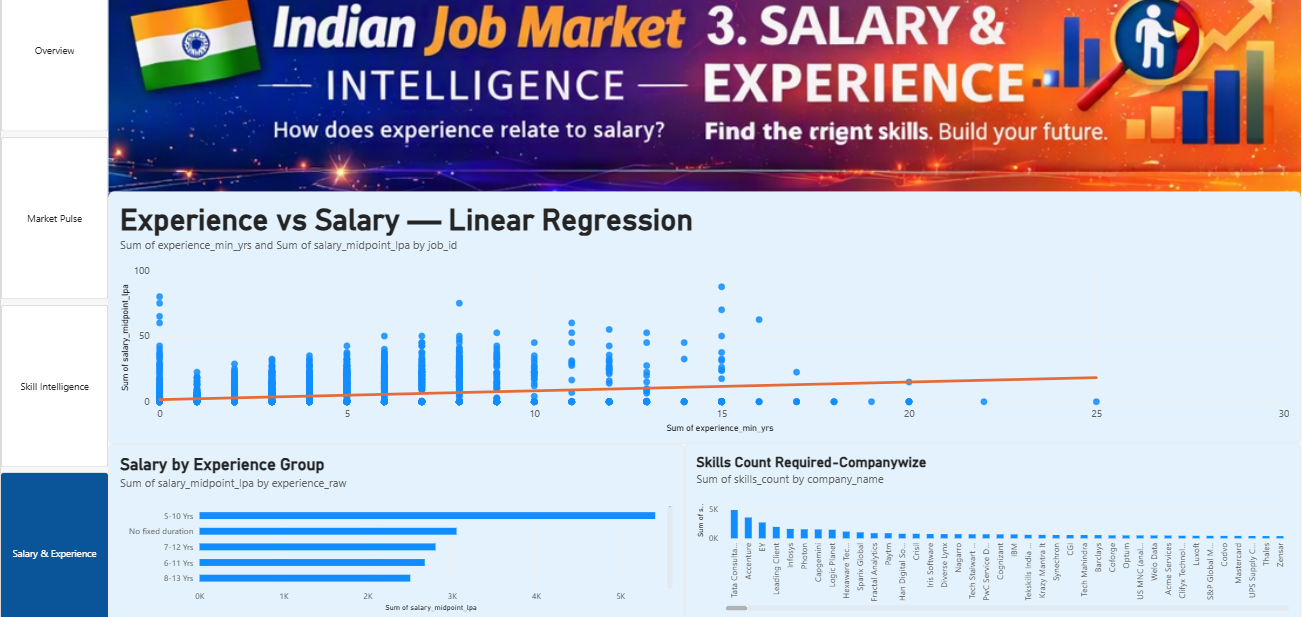

The page's visual inventory and layout, read from the dashboard file:
{"tool":"powerbi","page":{"name":"Salary & Experience","canvas":[1920,1080],"ordinal":3},"visuals":[{"type":"image","box":[155.1,0,1726.5,357.1],"z":0},{"type":"scatterChart","title":"Experience vs Salary — Linear Regression","fields":{"Category":["JobData.job_id"],"X":["Sum(JobData.experience_min_yrs)"],"Y":["Sum(JobData.salary_midpoint_lpa)"]},"box":[155.1,336.7,1726.6,365.6],"z":1000},{"type":"barChart","title":"Salary by Experience Group","fields":{"Category":["JobData.experience_raw"],"Y":["Sum(JobData.salary_midpoint_lpa)"]},"box":[155.1,702,834.3,260.6],"z":2000},{"type":"columnChart","title":"Skills Count Required-Companywize ","fields":{"Category":["JobData.company_name"],"Y":["Sum(JobData.skills_count)"]},"box":[989.8,700,892.2,260.6],"z":3000},{"type":"pageNavigator","box":[0,14.3,155.1,965.3],"z":3001}]}

Visuals, with their boxes on the page's 1920x1080 design canvas (x1, y1, x2, y2). These are canvas units, not pixel positions in the 1302x617 screenshot, which may show the page scaled, cropped or inside an application window:
image: x1=155 y1=0 x2=1882 y2=357
"Experience vs Salary — Linear Regression" scatterChart: x1=155 y1=337 x2=1882 y2=702
"Salary by Experience Group" barChart: x1=155 y1=702 x2=989 y2=963
"Skills Count Required-Companywize " columnChart: x1=990 y1=700 x2=1882 y2=961
pageNavigator: x1=0 y1=14 x2=155 y2=980
